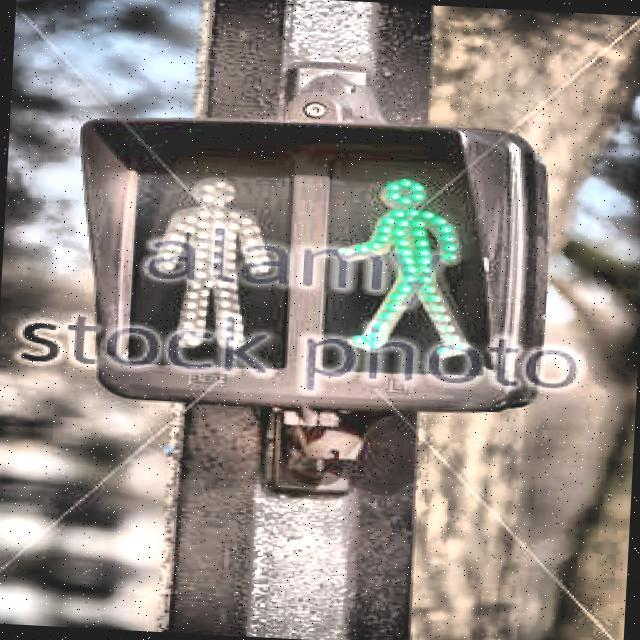green_light: (326, 168, 490, 368)
